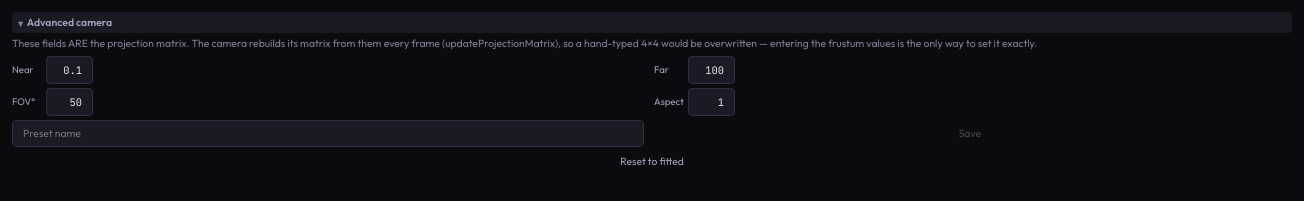
CameraAdvanced — an illegal value is rejected, never clamped › blur drops the draft and re-syncs the box with the props
Replace the text in the number field labelled "Far" with "0.05" at (711, 70), box [688,56,735,84]
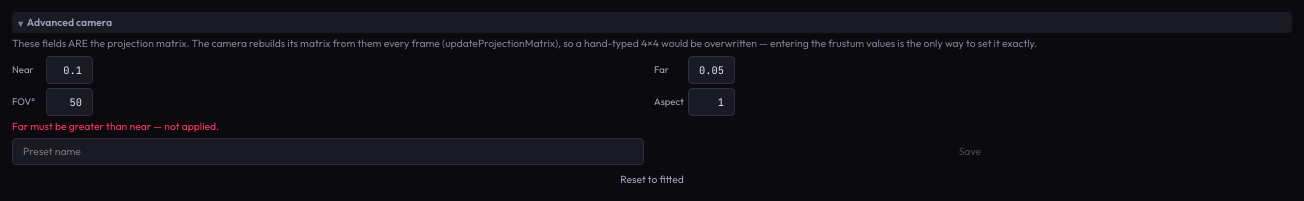
Leave the number field labelled "Far", box [688,56,735,84]
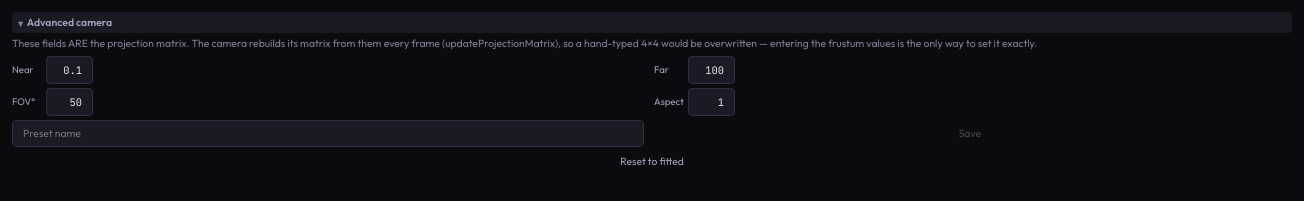
Expected: the number field labelled "Far" holds "100", [688,56,735,84]
